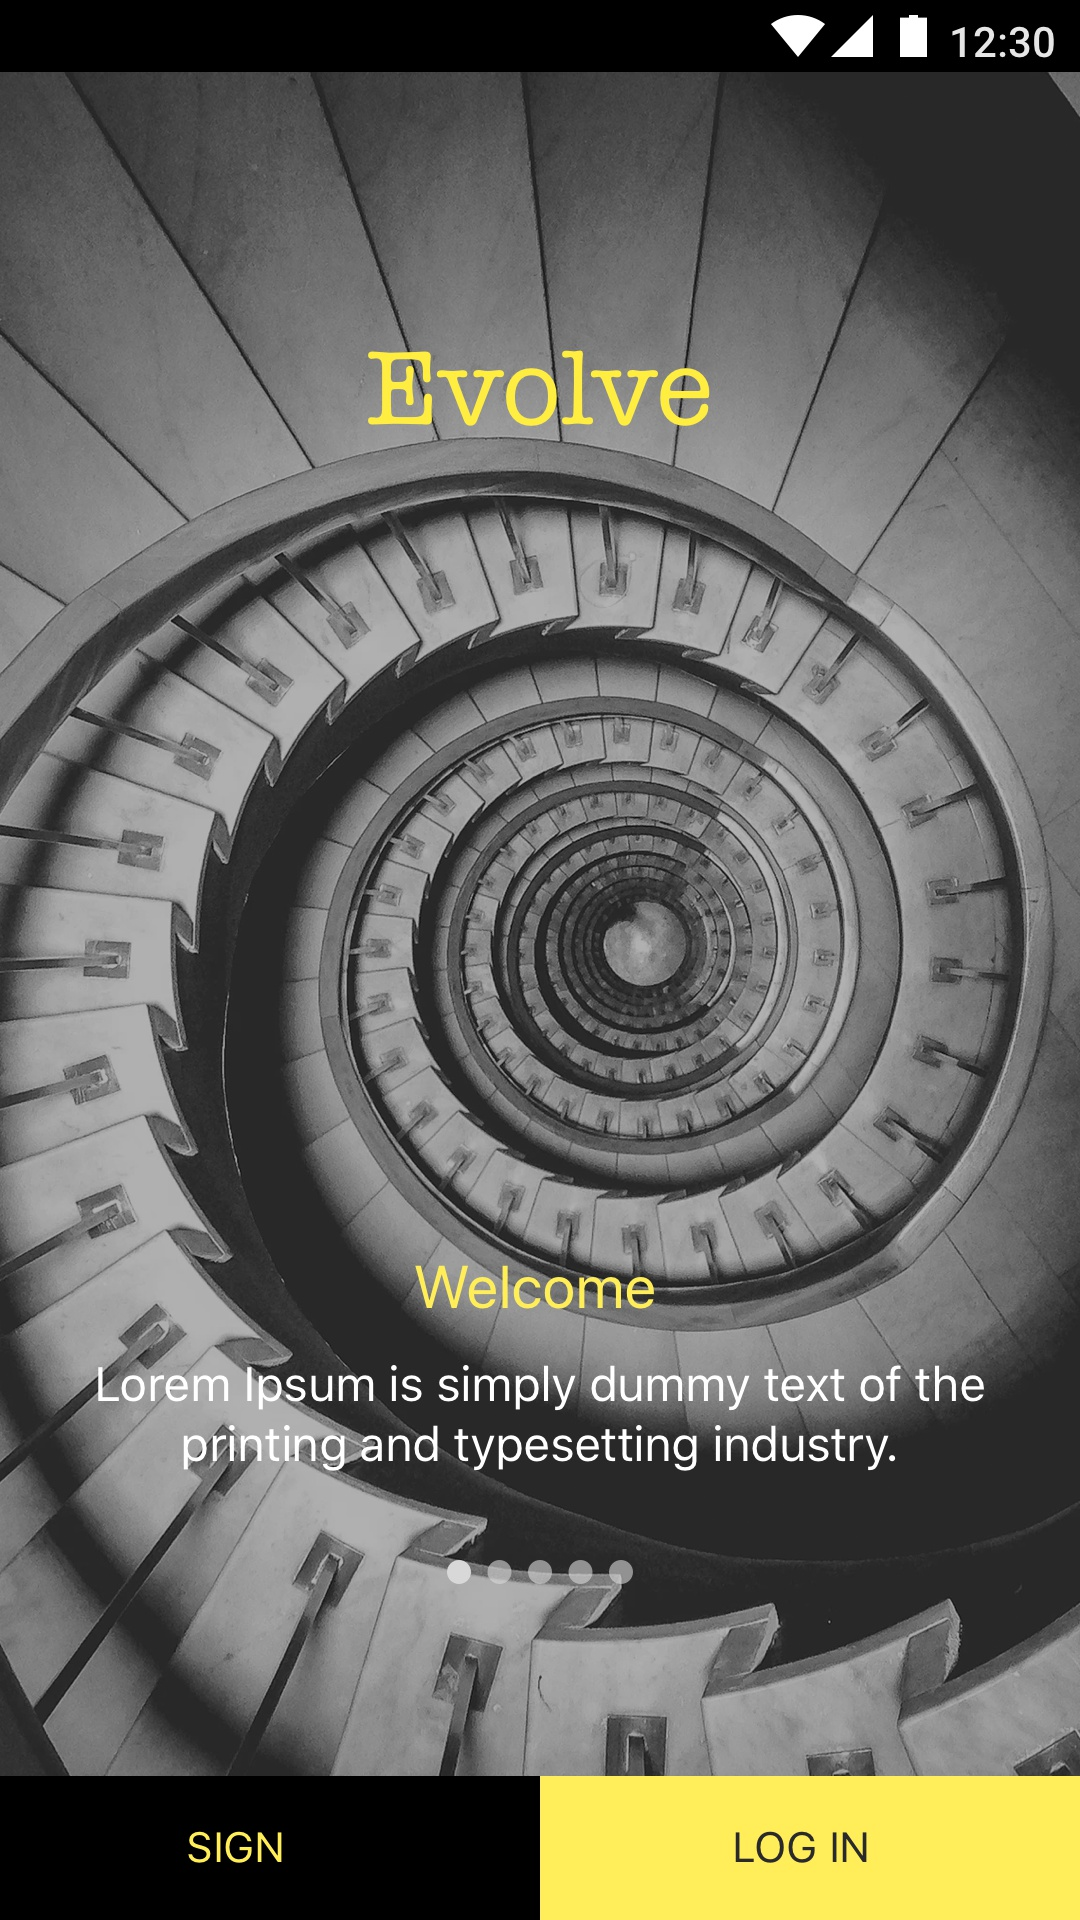BackgroundImage: (1, 73, 1080, 1776)
PageIndicator: (444, 1557, 636, 1586)
Text: (98, 1364, 986, 1472), (367, 349, 711, 429), (415, 1265, 655, 1313)
TextButton: (541, 1776, 1080, 1920), (1, 1776, 541, 1920)
UpperTaskBar: (1, 1, 1080, 73)
